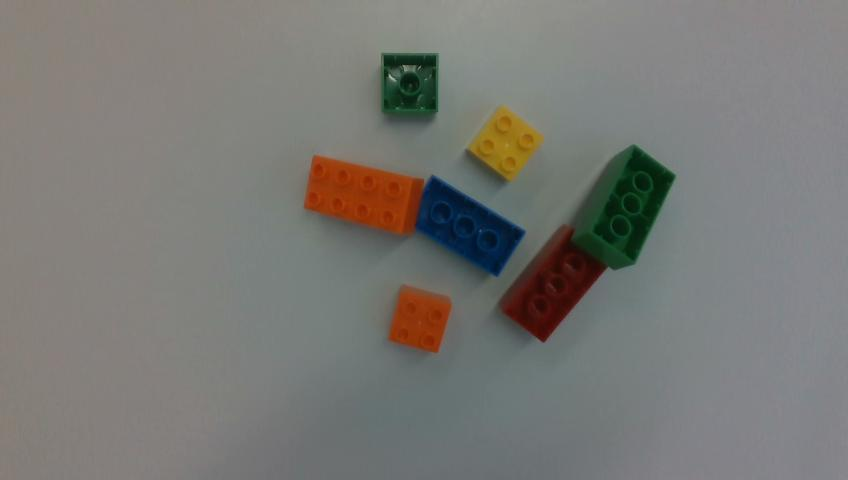2x2_green: (382, 53, 437, 114)
2x2_orange: (389, 285, 451, 352)
2x2_yellow: (467, 106, 543, 180)
4x2_blue: (416, 175, 525, 275)
4x2_green: (571, 145, 675, 269)
4x2_orange: (304, 155, 424, 234)
4x2_red: (502, 225, 605, 341)
